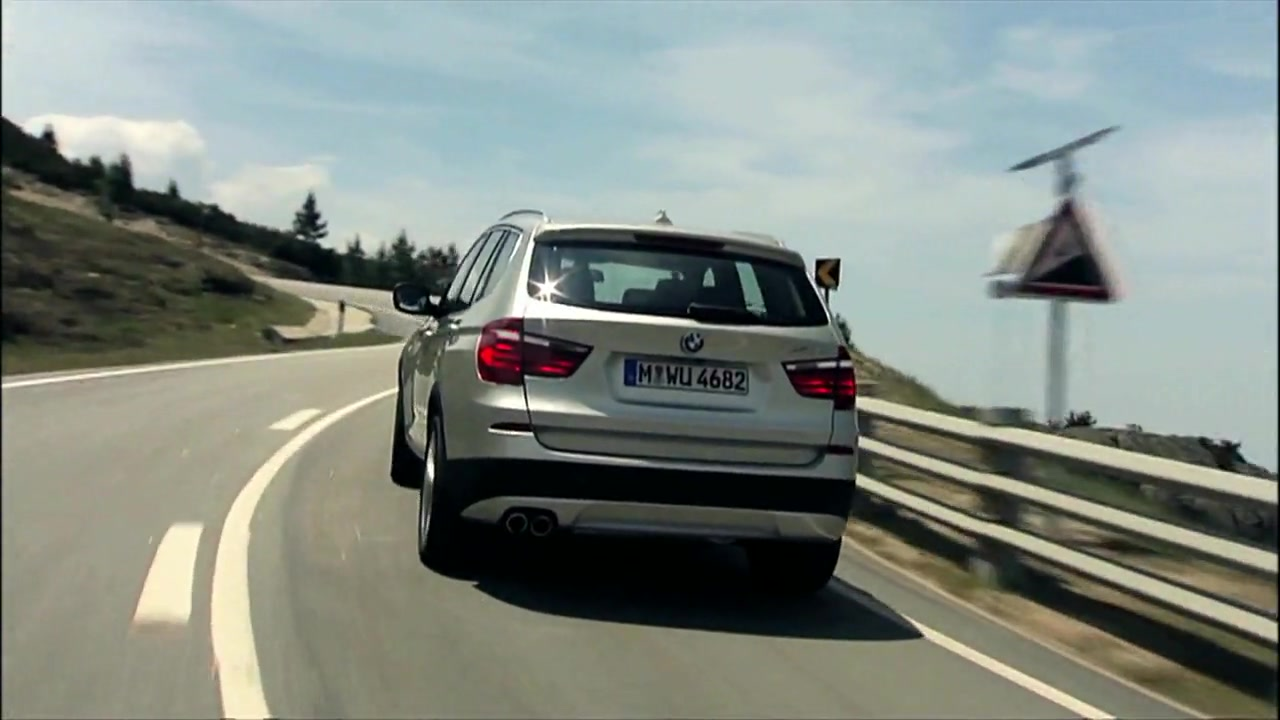car: (383, 207, 870, 602)
